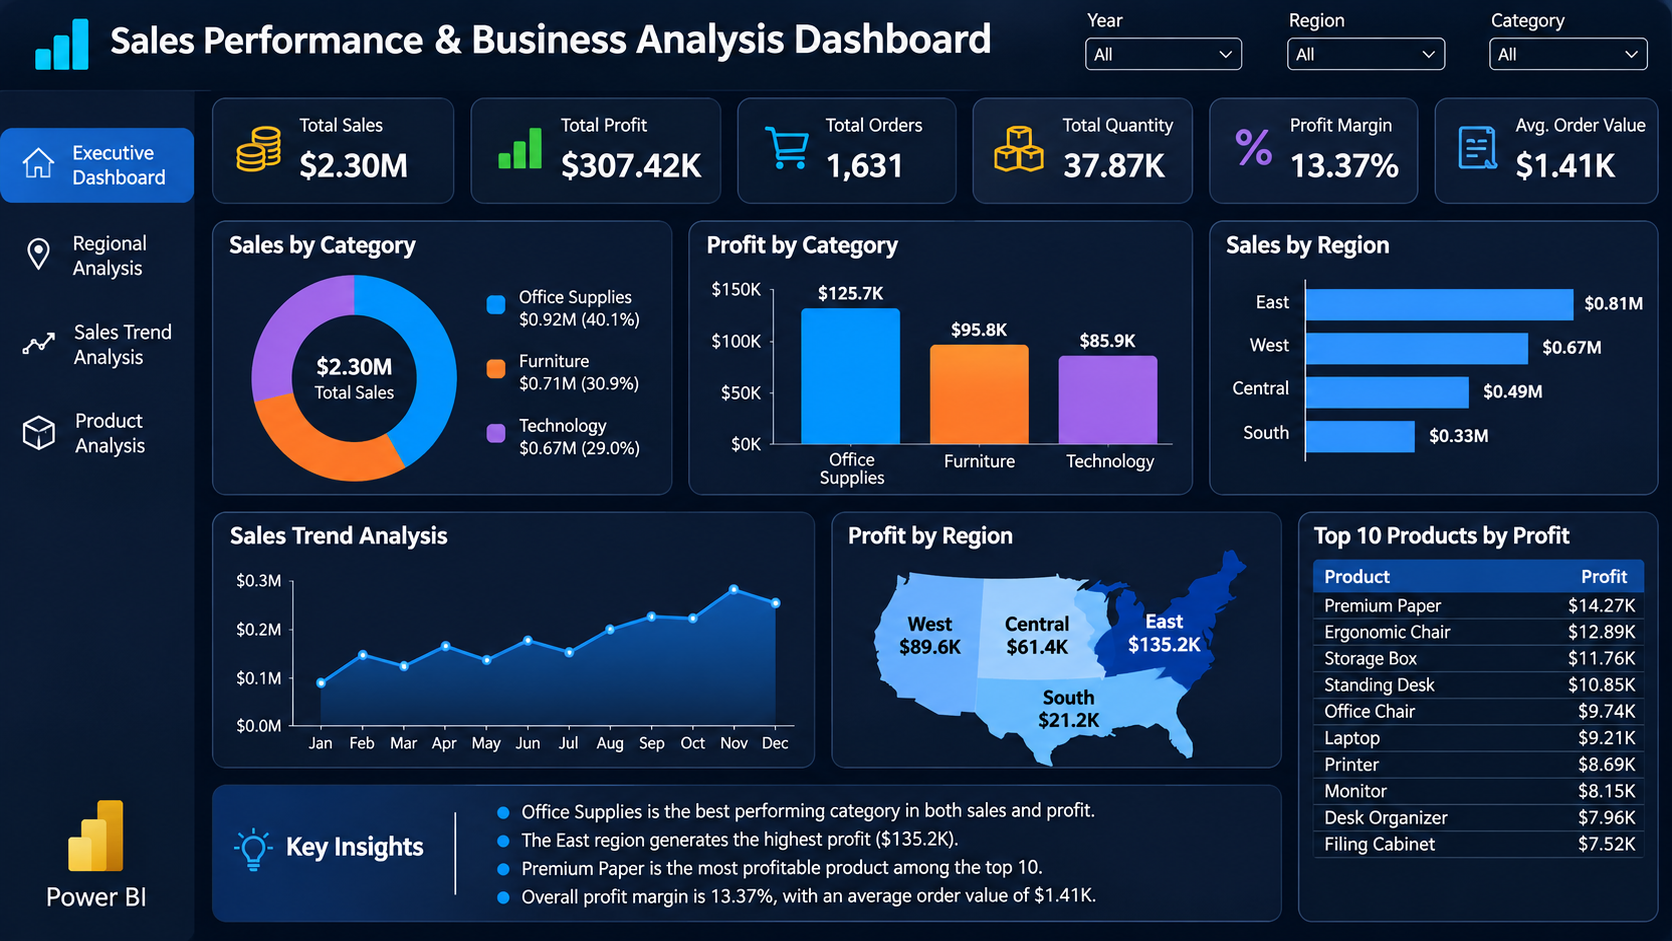

Layout of this report page (visuals, bound fields, positions):
{"tool":"powerbi","page":{"name":"Executive Dashboard","canvas":[1280,720],"ordinal":0},"visuals":[{"type":"cardVisual","title":"Total Sales","fields":{"Data":["Sum(Sales_Data.Sales)"]},"box":[11.8,117.6,275.9,128.5],"z":0},{"type":"cardVisual","title":"Total Orders","fields":{"Data":["CountNonNull(Sales_Data.Order_ID)"]},"box":[645.6,117.6,300,129.4],"z":1000},{"type":"cardVisual","title":"Total Quantity","fields":{"Data":["Sum(Sales_Data.Quantity)"]},"box":[960.3,116.2,300,130],"z":2000},{"type":"clusteredColumnChart","title":"Sales by Category","fields":{"Category":["Sales_Data.Category"],"Y":["Sum(Sales_Data.Sales)"]},"box":[640,258.6,470,268.6],"z":3000},{"type":"cardVisual","title":"Total Profit","fields":{"Data":["Sum(Sales_Data.Profit)"]},"box":[298.5,117.6,330.9,127.9],"z":4000},{"type":"clusteredColumnChart","title":"Profit by Category","fields":{"Category":["Sales_Data.Category"],"Y":["Sum(Sales_Data.Profit)"]},"box":[40,258.6,491.4,270],"z":5000},{"type":"clusteredColumnChart","title":" Sales by Region","fields":{"Category":["Sales_Data.Region"],"Y":["Sum(Sales_Data.Sales)"]},"box":[39.7,539.7,479.4,180.9],"z":6000},{"type":"textbox","box":[185.3,41.2,661.8,51.5],"z":7000},{"type":"cardVisual","title":"Profit Margin","fields":{"Data":["Sales_Data.Profit Margin %"]},"box":[646,540,300,180],"z":8000},{"type":"cardVisual","title":"AOV","fields":{"Data":["Sales_Data.Average Order Value"]},"box":[994.3,540,266,180],"z":9000}]}

Visuals, with their boxes in screenshot pixels (x1, y1, x2, y2), scaled from the page's 1280x720 canvas onto the 1672x941 screenshot:
"Total Sales" cardVisual: rect(15, 154, 376, 322)
"Total Orders" cardVisual: rect(843, 154, 1235, 323)
"Total Quantity" cardVisual: rect(1254, 152, 1646, 322)
"Sales by Category" clusteredColumnChart: rect(836, 338, 1450, 689)
"Total Profit" cardVisual: rect(390, 154, 822, 321)
"Profit by Category" clusteredColumnChart: rect(52, 338, 694, 691)
" Sales by Region" clusteredColumnChart: rect(52, 705, 678, 940)
textbox: rect(242, 54, 1107, 121)
"Profit Margin" cardVisual: rect(844, 706, 1236, 940)
"AOV" cardVisual: rect(1299, 706, 1646, 940)
